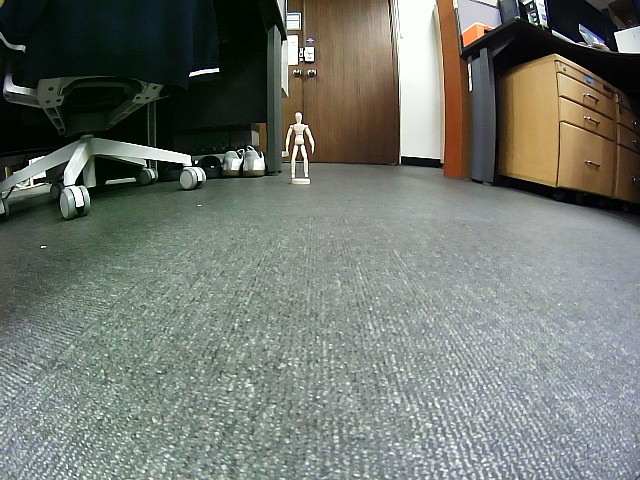person: (287, 111, 315, 179)
